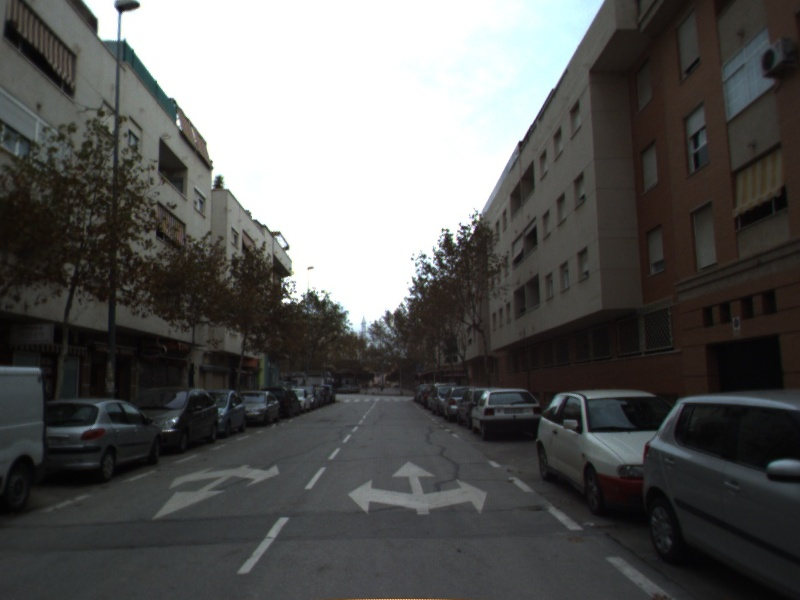STRAIGHT_LEFT_RIGHT: (345, 459, 489, 516)
